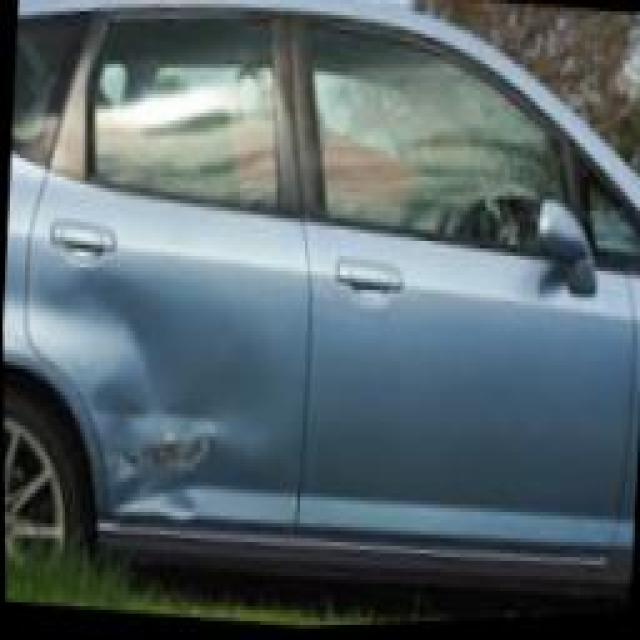rapairable: (84, 344, 224, 556)
